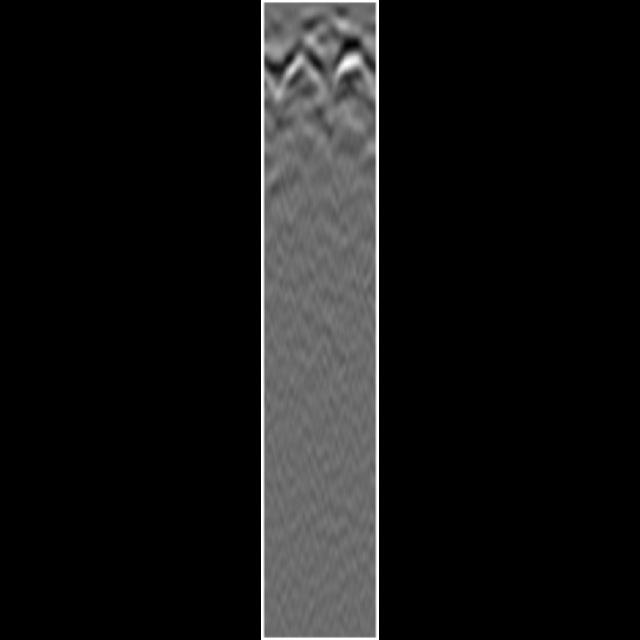hyperbola: (274, 51, 328, 99), (328, 51, 376, 100)
